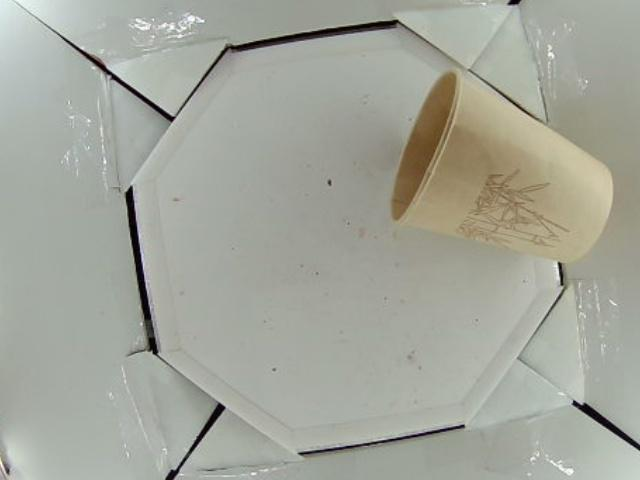Cup: (390, 70, 612, 263)
